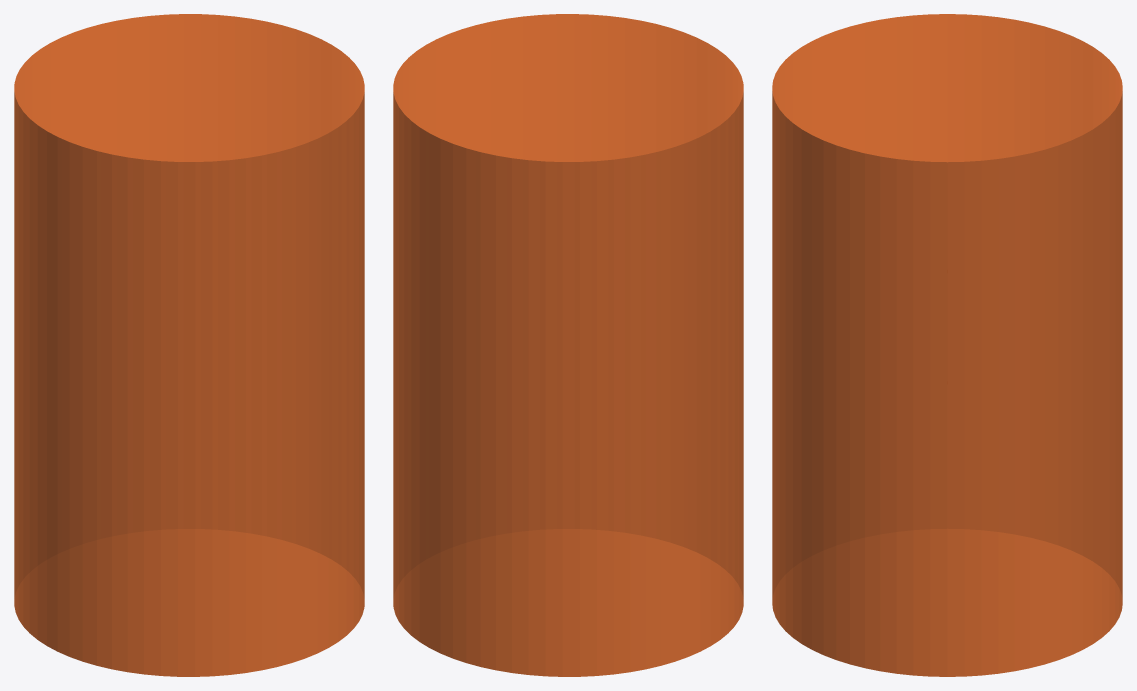
The model's file is Jija.fbx.
The picture shows the model from 3 angles, left to right: view 1: azimuth 30°, elevation 25°; view 2: azimuth 150°, elevation 25°; view 3: azimuth 270°, elevation 25°; orthographic projection.
Visible parts, largest first — view 1: Цилиндр; view 2: Цилиндр; view 3: Цилиндр.
Part boxes in pixels (x1,y1,x2,y2): Цилиндр: (14,14,364,676); Цилиндр: (393,14,743,676); Цилиндр: (772,14,1122,676).
Size of the model in its own units: 200 by 324 by 200.
